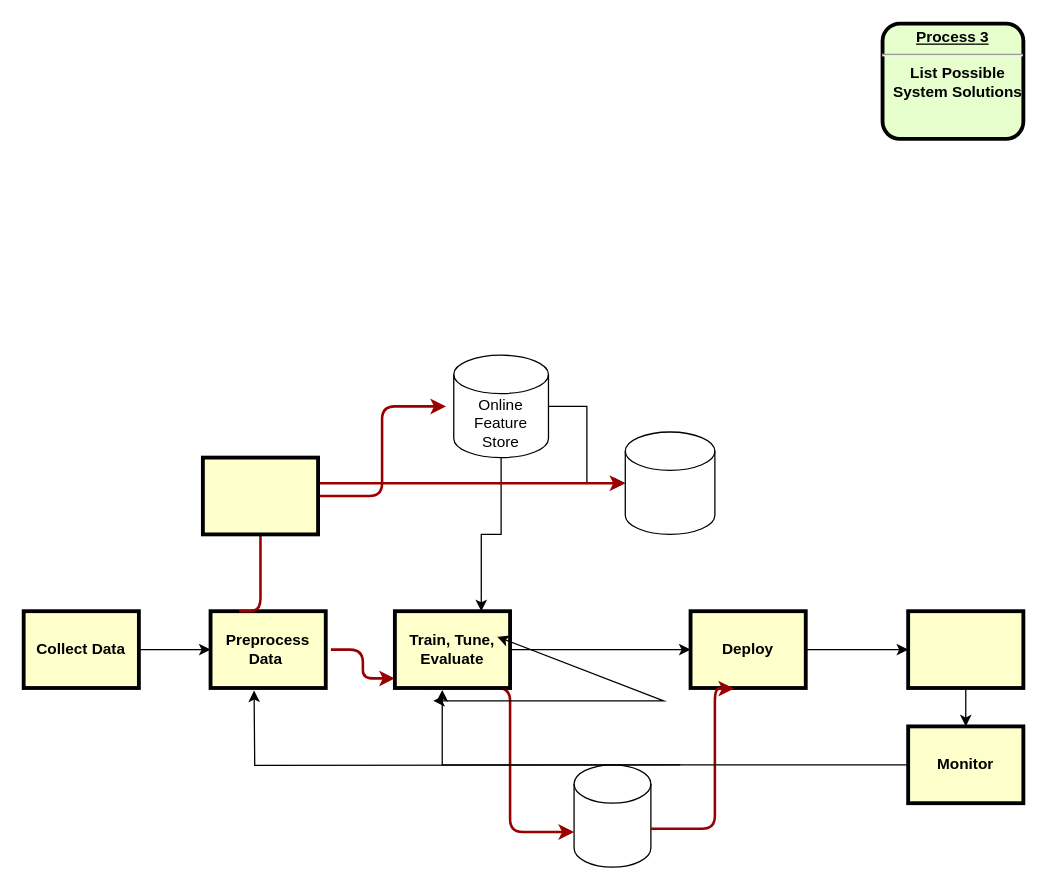
The diagram is 1047 pixels wide and 890 high, and some of its shapes have lost their labels. Each missing label, with the box of its shape:
Application: (906, 609, 1025, 689)
Engineer Features: (200, 455, 319, 536)
Model Registry: (573, 764, 651, 867)
Offline Feature Store: (624, 431, 715, 534)
